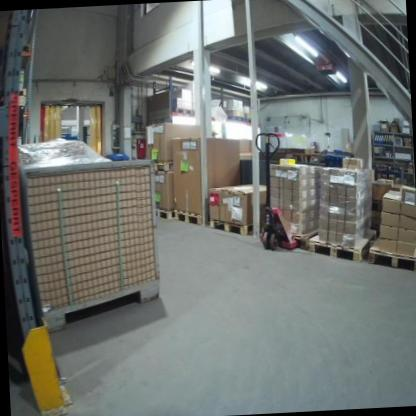pallet: (308, 228, 378, 265), (366, 231, 416, 273), (209, 213, 264, 238), (173, 206, 204, 229), (149, 157, 175, 172), (153, 204, 173, 221), (172, 105, 193, 116)
pallet_truck: (249, 130, 300, 254)
stillage: (16, 158, 162, 331)
